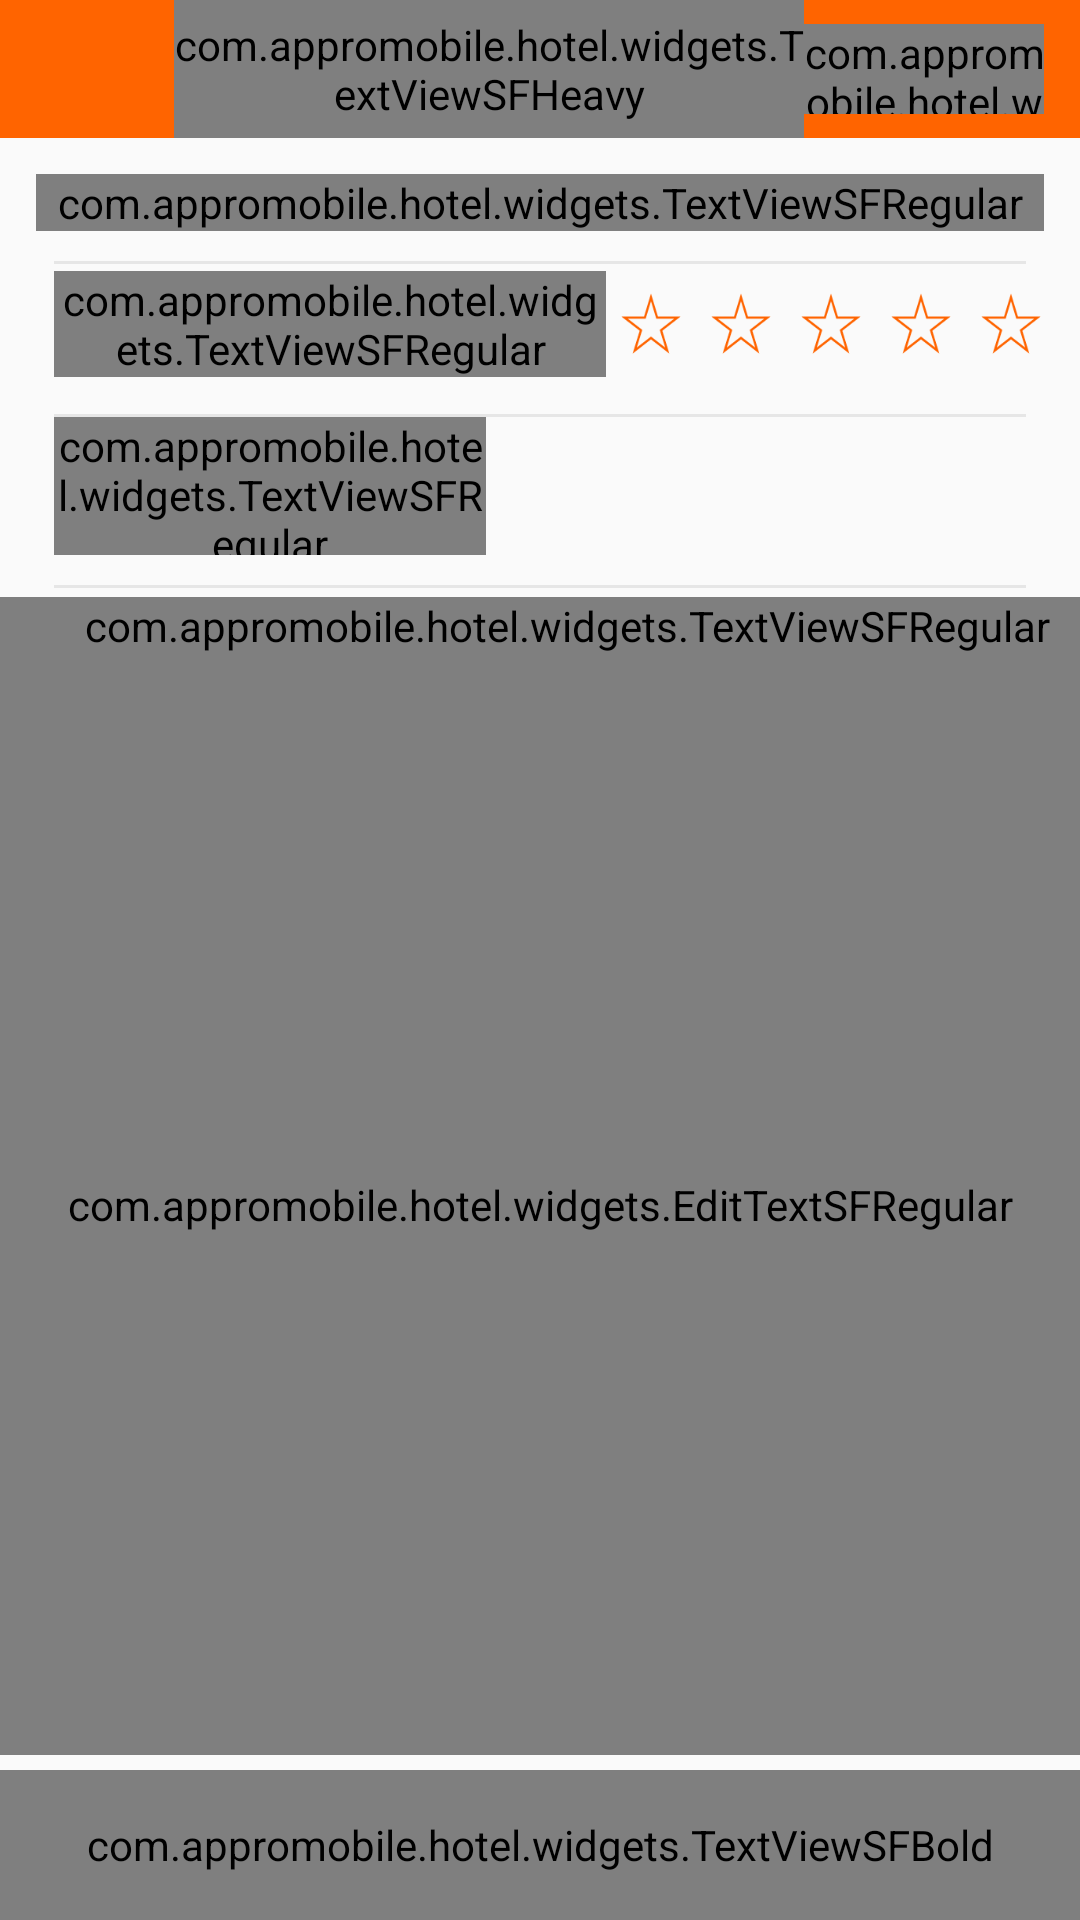

Named icons in this screenshot (1080*1920) and their bounding boxes, [x1, y1, x2, y2]:
review star: [621, 294, 681, 354], [711, 294, 771, 354], [801, 294, 861, 354], [891, 294, 951, 354], [981, 294, 1041, 354]
